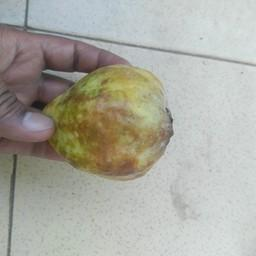Bad_guava: (38, 63, 173, 181)
